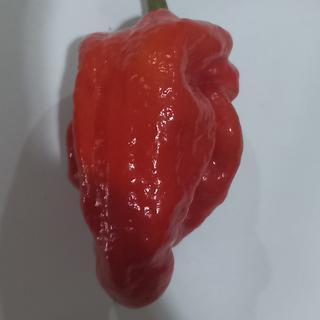Grade-A: (59, 9, 248, 307)
